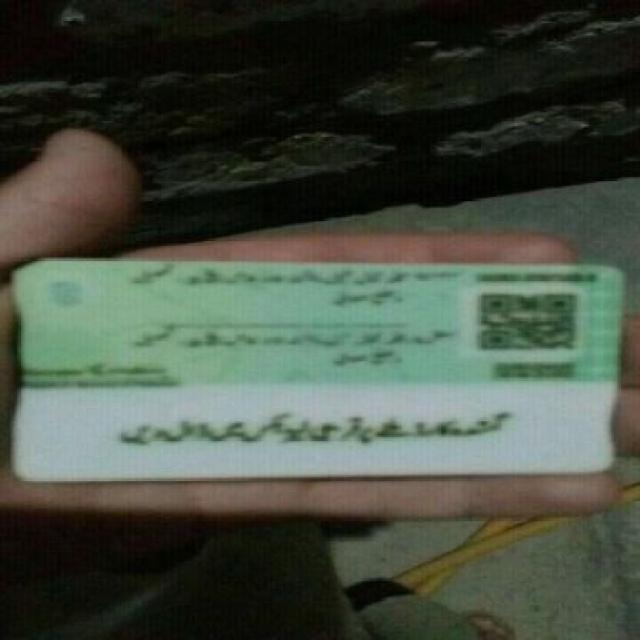Back: (8, 253, 624, 482)
